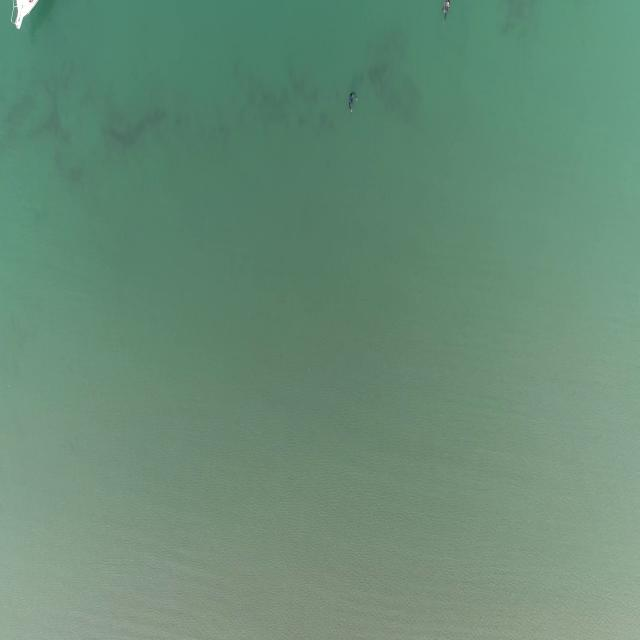person: (346, 91, 359, 113), (441, 1, 452, 20)
